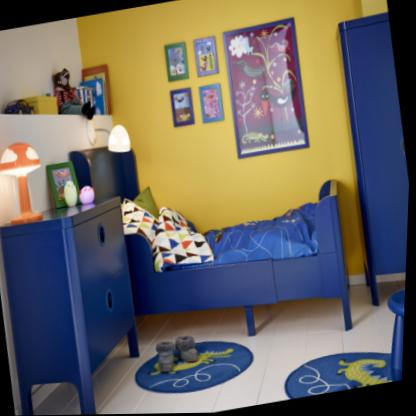Bed: (62, 104, 367, 378)
